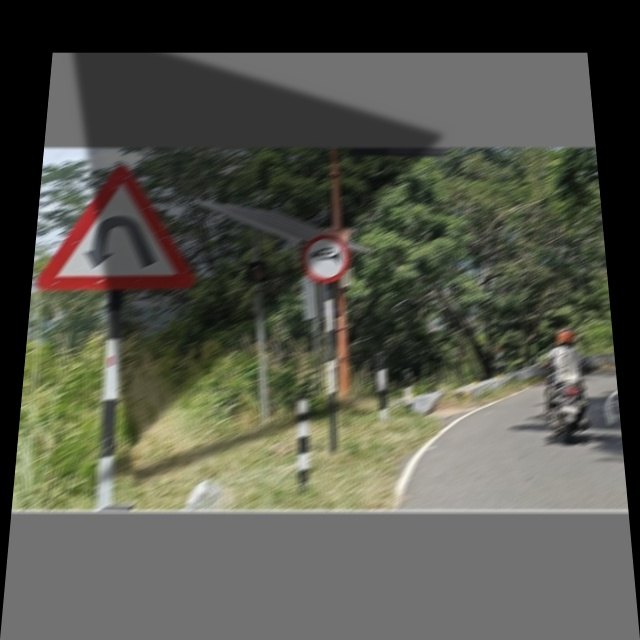Left_Hair_Pin_Bend: (39, 167, 200, 293)
